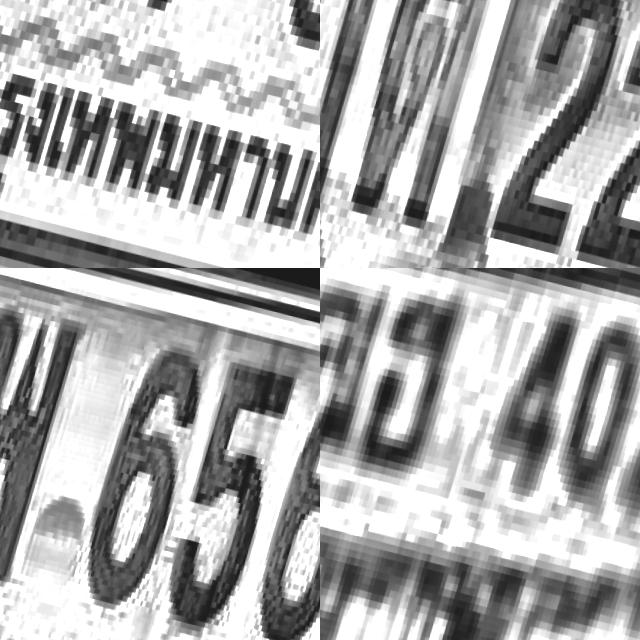license-plate: (0, 268, 320, 640), (320, 268, 640, 640), (0, 0, 320, 268), (320, 0, 640, 268)
